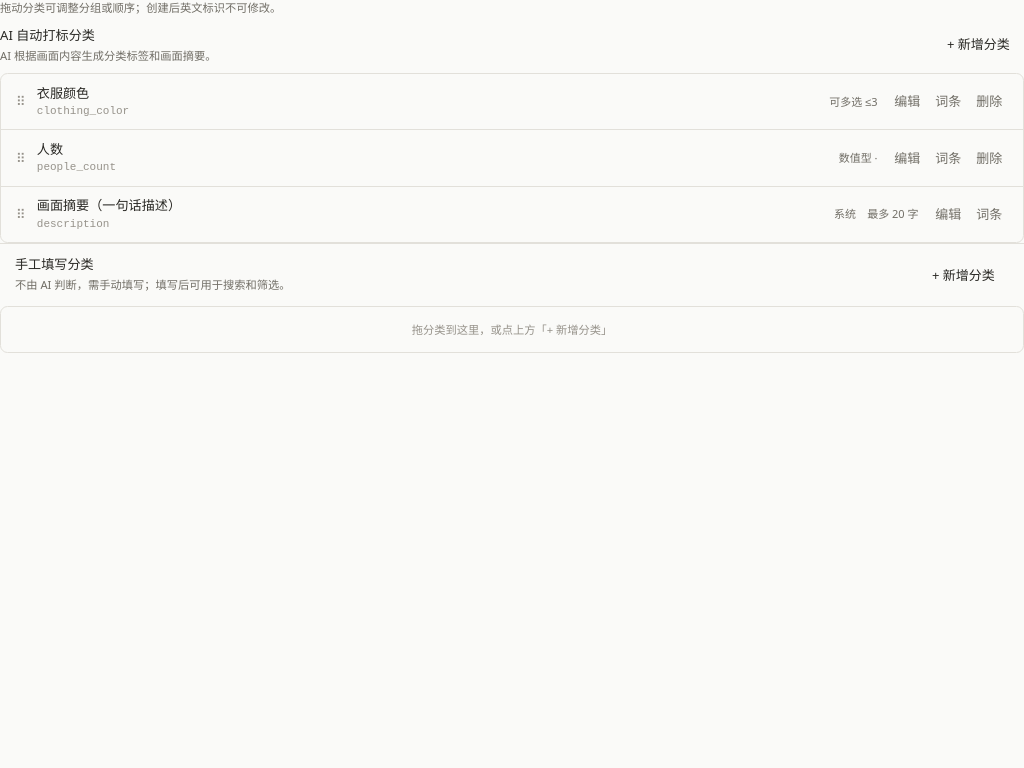
Test: V24 facetManagePanel_number_facet_form › 转换为数值型：先 dry-run 预览分桶；存在冲突/歧义时执行按钮禁用（不自动裁决）
Expected: the text "衣服颜色" is shown, [37,84,89,102]
Click the button "编辑" in the row of "衣服颜色" at (907, 102), box [889,90,926,113]
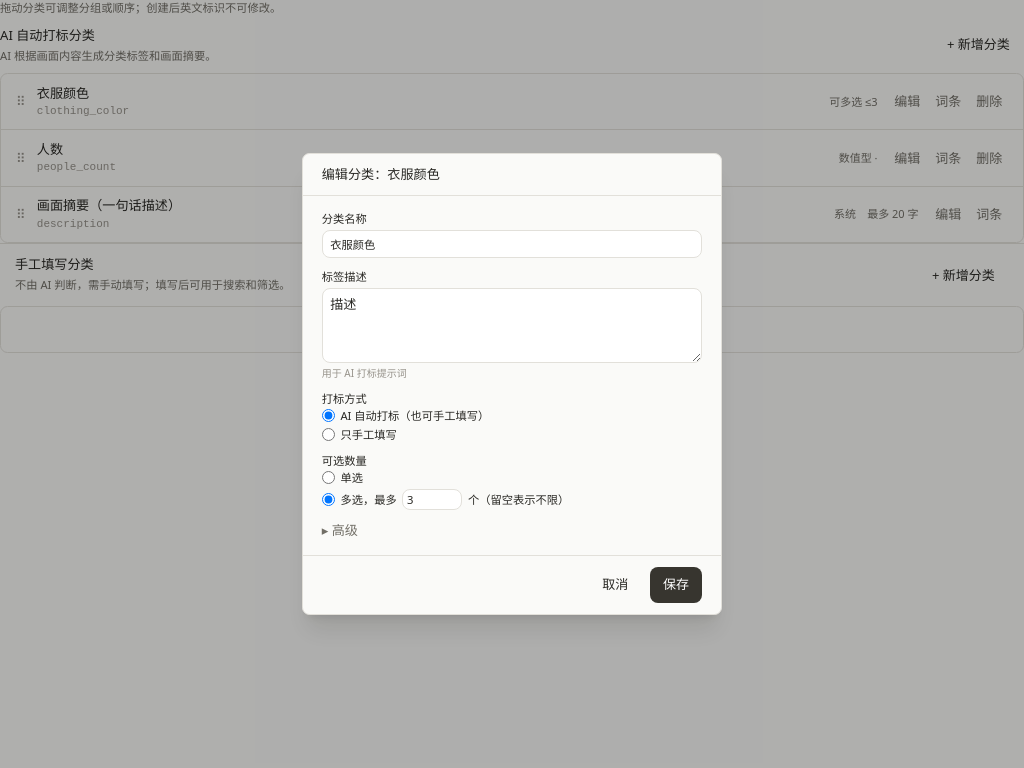
Click the button "▸ 高级" at (340, 530), box [322,521,358,540]
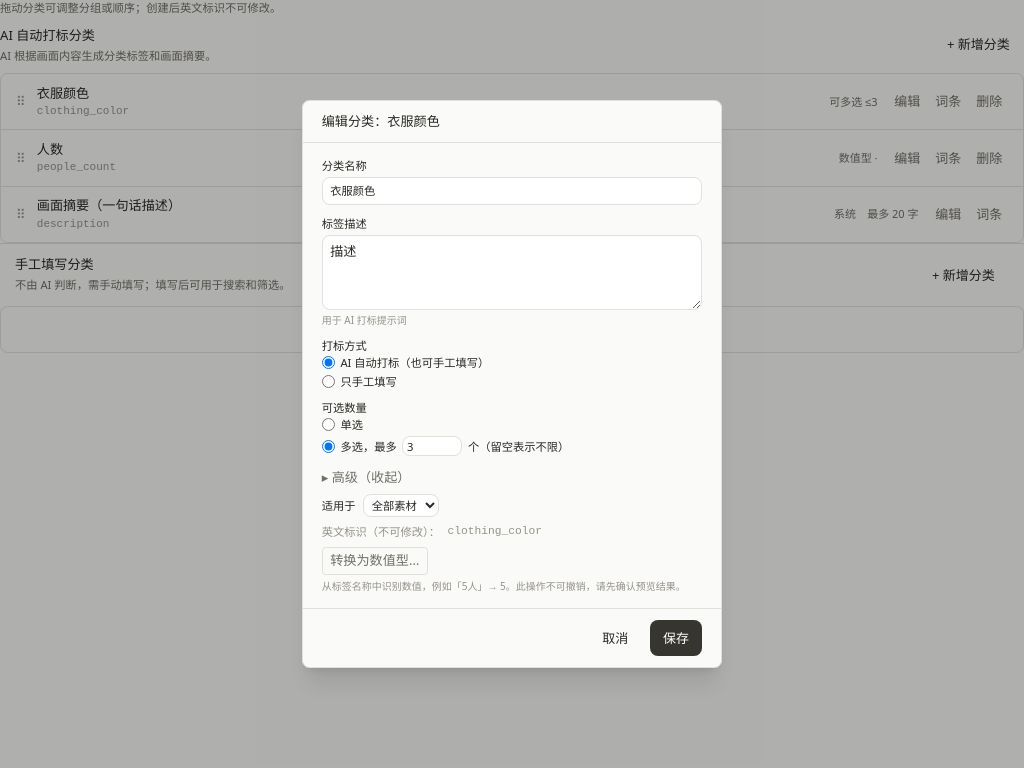
Click the button "转换为数值型…" at (375, 561), box [322,547,428,575]
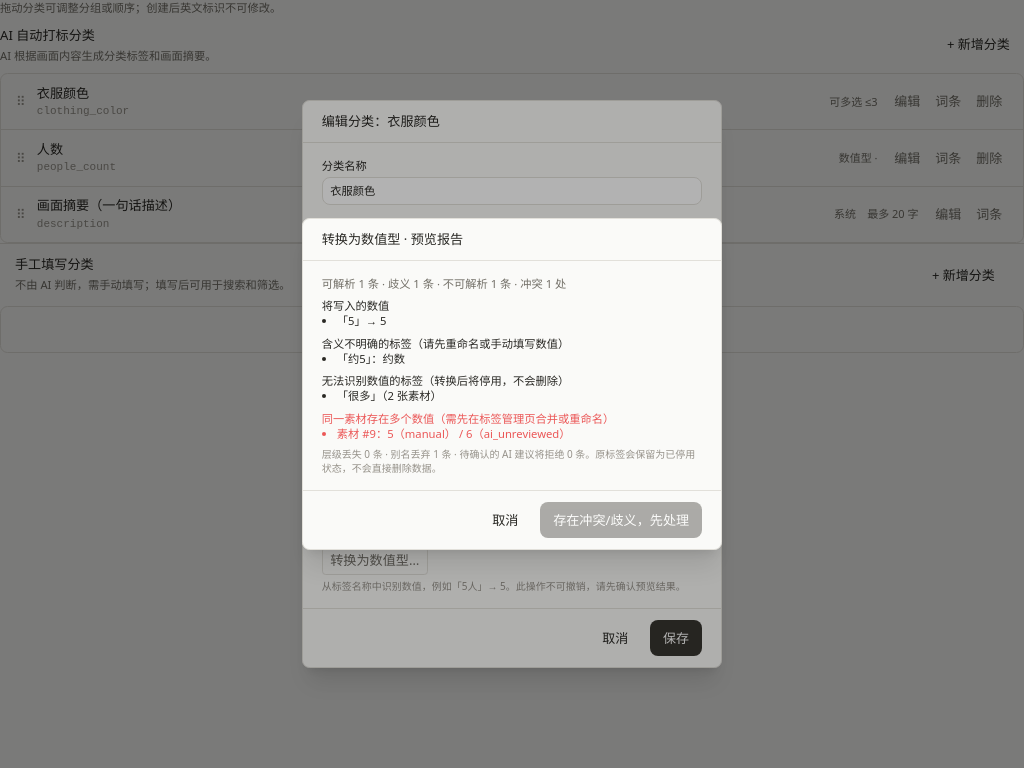
Result: the text "转换为数值型 · 预览报告" is shown at [303,219,721,261]
Result: the text "可解析 1 条 · 歧义 1 条 · 不可解析 1 条 · 冲突 1 处" is shown at [322,276,566,291]
Result: the button "存在冲突/歧义，先处理" is disabled at [540,502,702,538]
